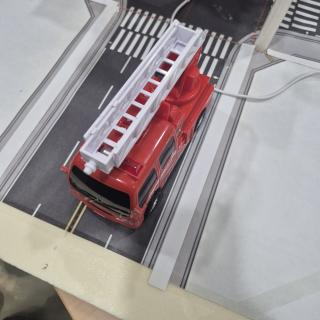Fire_truck: (62, 20, 214, 228)
